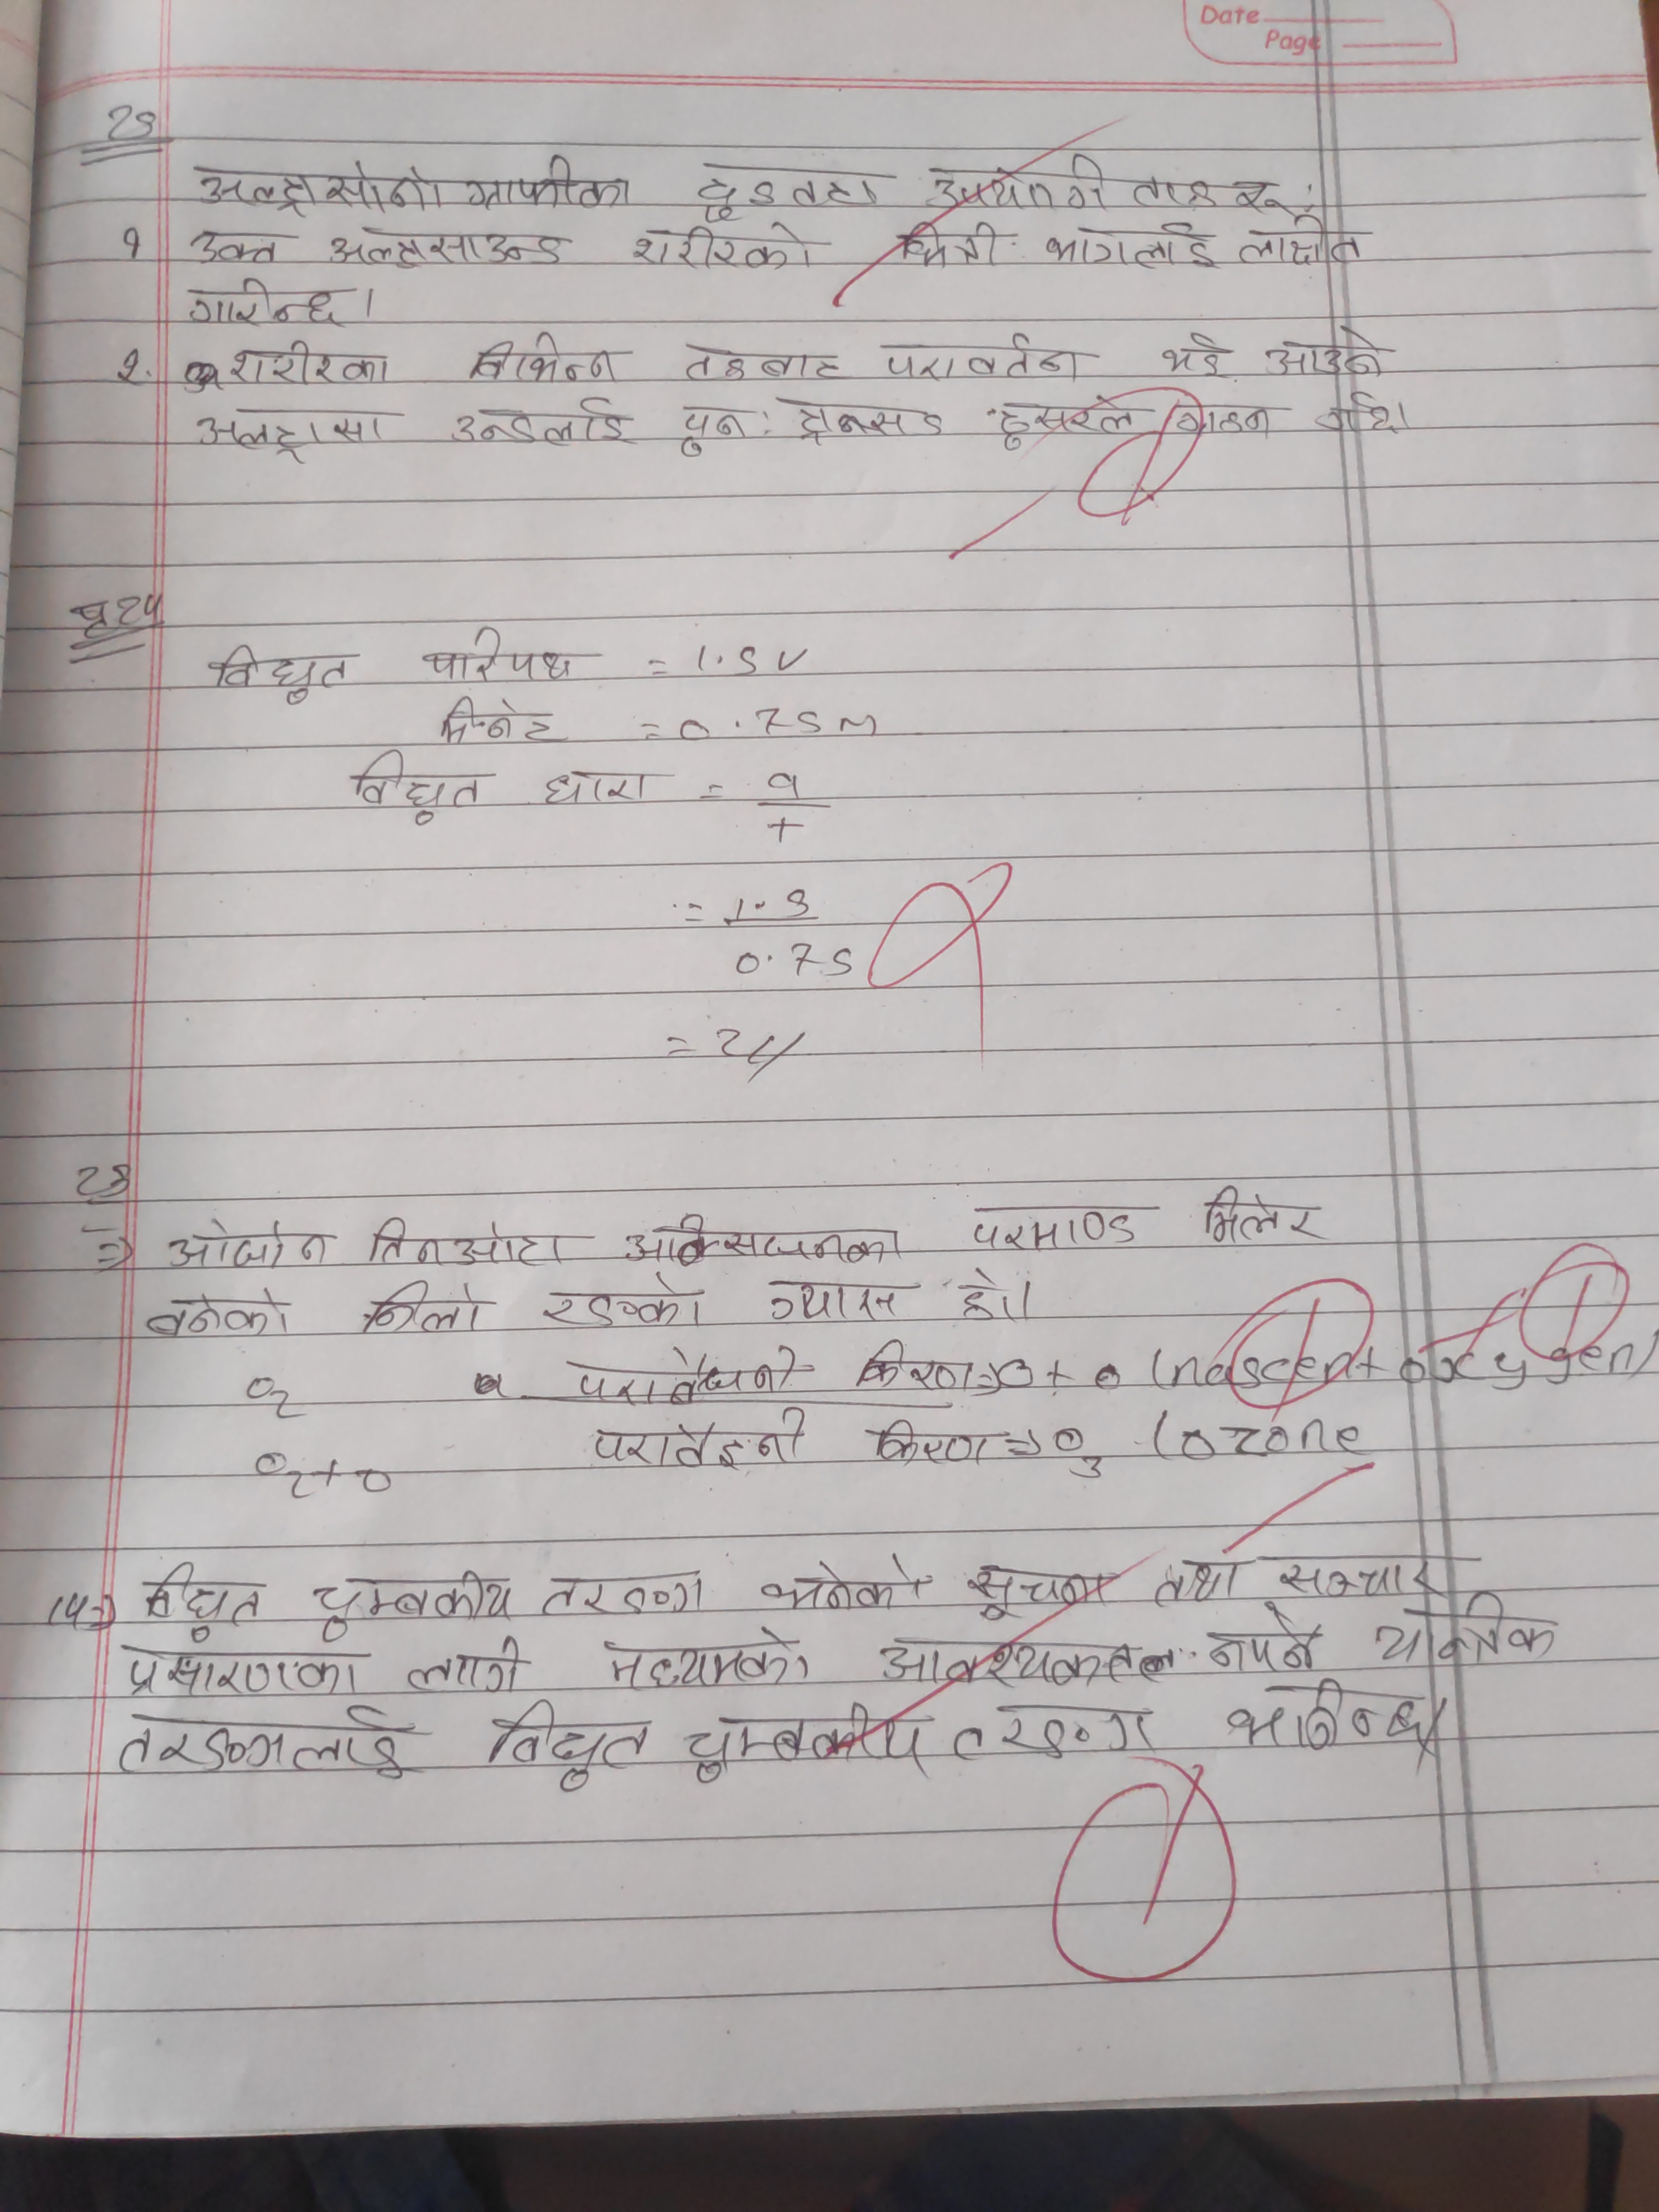text: (115, 1703, 415, 1780), (687, 1709, 939, 1785), (871, 1629, 1182, 1686), (484, 1698, 659, 1796), (1225, 1677, 1439, 1756), (620, 1211, 910, 1268), (119, 1635, 373, 1698), (185, 155, 451, 214), (301, 1571, 523, 1635), (589, 1406, 816, 1468), (1371, 1597, 1568, 1667), (601, 1630, 819, 1693), (925, 152, 1112, 219), (690, 160, 882, 225), (563, 1348, 803, 1397), (988, 1698, 1164, 1761), (877, 331, 1086, 383), (143, 1555, 268, 1642), (328, 225, 568, 270), (369, 1216, 568, 1270), (444, 395, 631, 451), (190, 406, 403, 455), (350, 751, 483, 827), (1042, 218, 1223, 273), (964, 1557, 1112, 1625), (418, 625, 587, 685), (460, 155, 638, 211), (627, 221, 823, 270), (540, 1277, 711, 1332), (967, 1198, 1143, 1252), (209, 644, 356, 709), (160, 1216, 335, 1270), (1272, 1552, 1452, 1604), (995, 392, 1150, 451), (178, 275, 349, 327), (762, 1557, 925, 1611), (781, 395, 946, 446), (228, 338, 399, 387), (680, 336, 854, 381), (465, 333, 626, 381), (765, 1270, 904, 1325), (141, 1289, 295, 1339), (540, 1575, 711, 1620), (1199, 1184, 1324, 1245), (362, 1278, 495, 1334), (401, 1637, 528, 1693), (1202, 1618, 1330, 1674), (1263, 327, 1394, 381), (852, 1341, 981, 1395), (1236, 219, 1366, 270), (873, 1418, 993, 1470), (437, 697, 568, 744), (1164, 388, 1276, 439), (894, 219, 1011, 265), (66, 589, 169, 637), (1145, 1561, 1246, 1608), (538, 766, 650, 808), (667, 404, 753, 453), (192, 223, 293, 263), (1124, 165, 1211, 211), (953, 1266, 1016, 1324), (1317, 392, 1399, 435), (1157, 331, 1230, 378), (1227, 174, 1297, 219)
